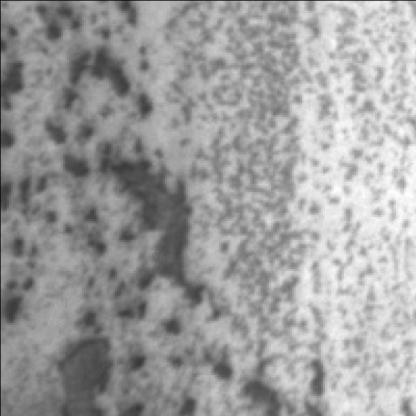patches: (114, 152, 212, 295), (60, 335, 123, 412)
pitted_surface: (193, 0, 416, 376), (2, 0, 200, 333)
